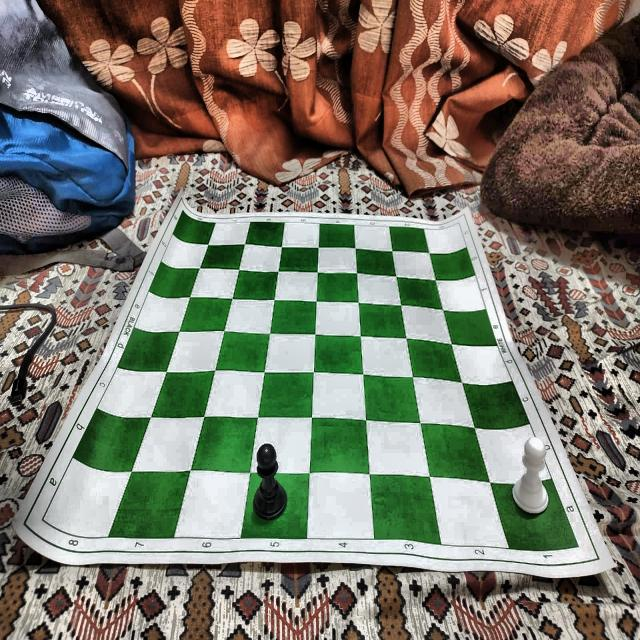BlackPawn: (252, 442, 288, 522)
WhitePawn: (513, 437, 551, 516)
